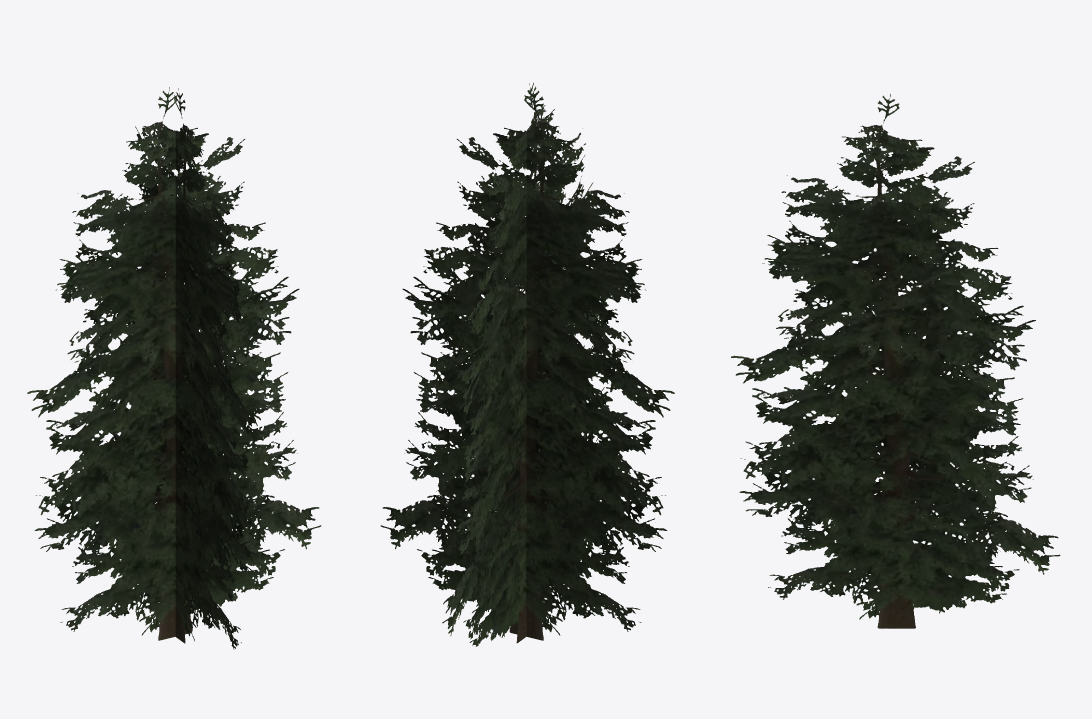
File: baum_fichte_3_lod2.glb
3 renders of one model, left to right at view 1: azimuth 30°, elevation 25°; view 2: azimuth 150°, elevation 25°; view 3: azimuth 270°, elevation 25°, orthographic. The views are drawn at different scales.
Visible parts, largest first — view 1: Billboard; view 2: Billboard; view 3: Billboard.
Part boxes in pixels (left/top/right/bottom): Billboard: left=27, top=87, right=321, bottom=649; Billboard: left=380, top=83, right=674, bottom=646; Billboard: left=731, top=94, right=1060, bottom=628.
Size of the model in its own units: 9.74 by 16 by 9.74.
1 material, 1 textured.
